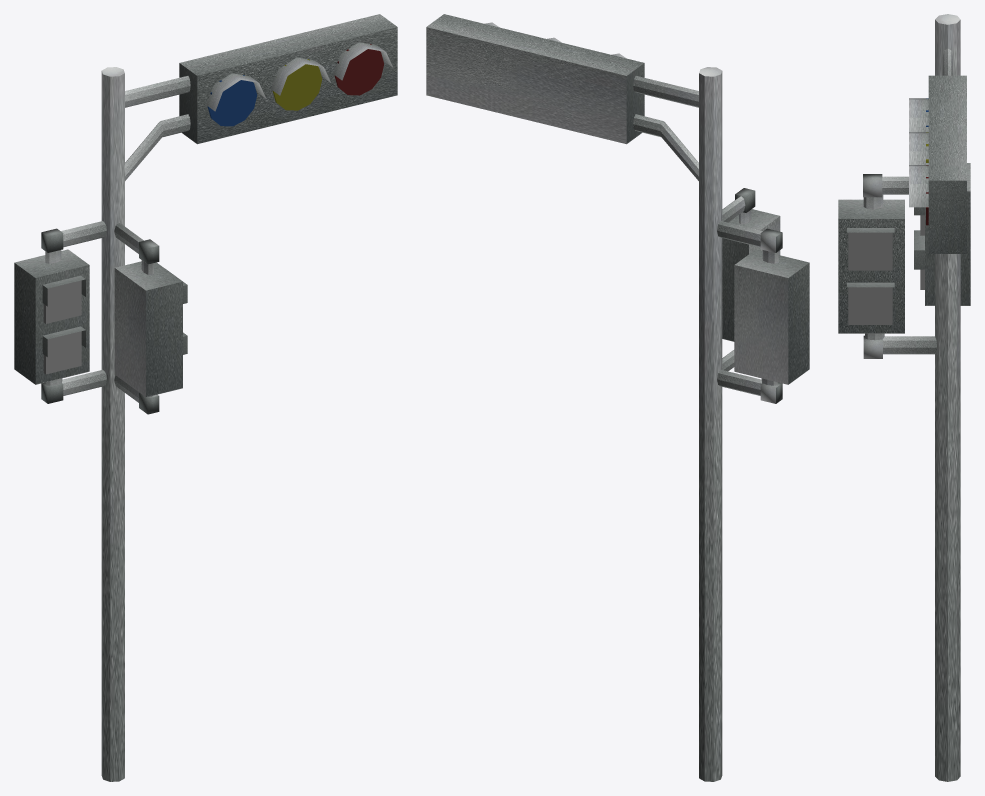
Rendered from trafficlight000.obj.
3 views of the same model, side by side, from view 1: azimuth 30°, elevation 25°; view 2: azimuth 150°, elevation 25°; view 3: azimuth 270°, elevation 25° (orthographic). The views are drawn at different scales.
Visible parts, largest first — view 1: pCylinder1, pCube1, pCube7 group1, pCube2, pCylinder8, pCylinder9, pCylinder10, pCube5, pCube6, pCylinder3, pCylinder2, pCylinder11 (+4 smaller); view 2: pCube1, pCylinder1, pCube2, pCube7 group1, pCylinder3, pCylinder2, pCylinder11, pCylinder14; view 3: pCylinder1, pCube1, pCube7 group1, group1 pCube11, group1 pCube9, pCube2, group1 pCylinder17, pCylinder6, pCylinder4, pCylinder5, group1 pCylinder16, pCube15 (+4 smaller).
Part boxes in pixels (box(x1,y1,x2,y2)): pCylinder1: box(101, 67, 124, 781); pCube1: box(179, 14, 397, 144); pCube7 group1: box(114, 261, 182, 397); pCube2: box(14, 249, 89, 384); pCylinder8: box(207, 75, 257, 126); pCylinder9: box(272, 59, 322, 110); pCylinder10: box(334, 44, 384, 95); pCube5: box(43, 280, 81, 323); pCube6: box(43, 331, 81, 374); pCylinder3: box(125, 114, 190, 180); pCylinder2: box(125, 76, 190, 107); pCylinder11: box(61, 221, 106, 247); pCube1: box(426, 14, 644, 144); pCylinder1: box(699, 67, 722, 781); pCube2: box(734, 249, 809, 384); pCube7 group1: box(722, 209, 780, 341); pCylinder3: box(633, 114, 698, 180); pCylinder2: box(633, 76, 698, 107); pCylinder11: box(717, 221, 762, 247); pCylinder14: box(717, 369, 761, 395); pCylinder1: box(935, 14, 960, 781); pCube1: box(928, 75, 966, 253); pCube7 group1: box(838, 199, 904, 333); group1 pCube11: box(848, 232, 892, 270); group1 pCube9: box(848, 287, 892, 324); pCube2: box(925, 163, 970, 305); group1 pCylinder17: box(883, 336, 936, 354); pCylinder6: box(909, 165, 928, 207); pCylinder4: box(909, 98, 928, 132); pCylinder5: box(909, 132, 928, 164); group1 pCylinder16: box(882, 176, 908, 194); pCube15: box(863, 174, 882, 197).
Size of the model in its own units: 3.57 by 6.61 by 1.05.
